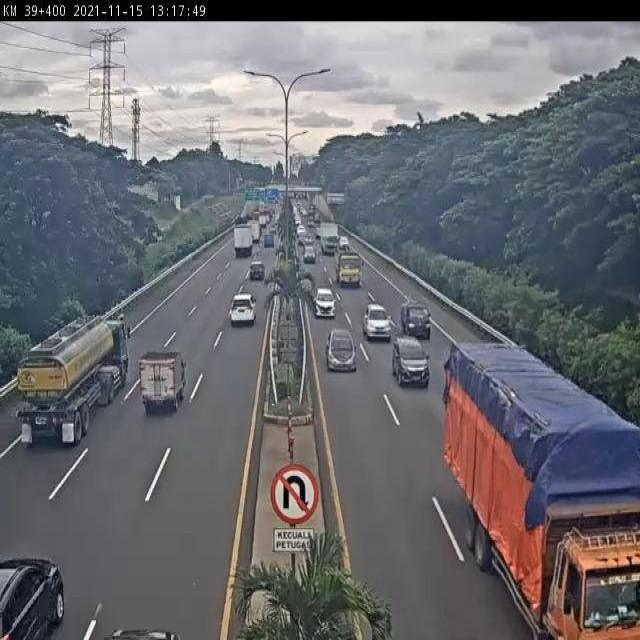car: (140, 349, 187, 411), (394, 337, 430, 387), (325, 327, 357, 373), (400, 300, 431, 340), (362, 304, 391, 343), (230, 292, 258, 325), (315, 288, 337, 319), (248, 260, 266, 284)
truck-l-: (442, 338, 640, 640)
truck-m-: (335, 251, 365, 289)
truck-xl-: (17, 318, 129, 450)
